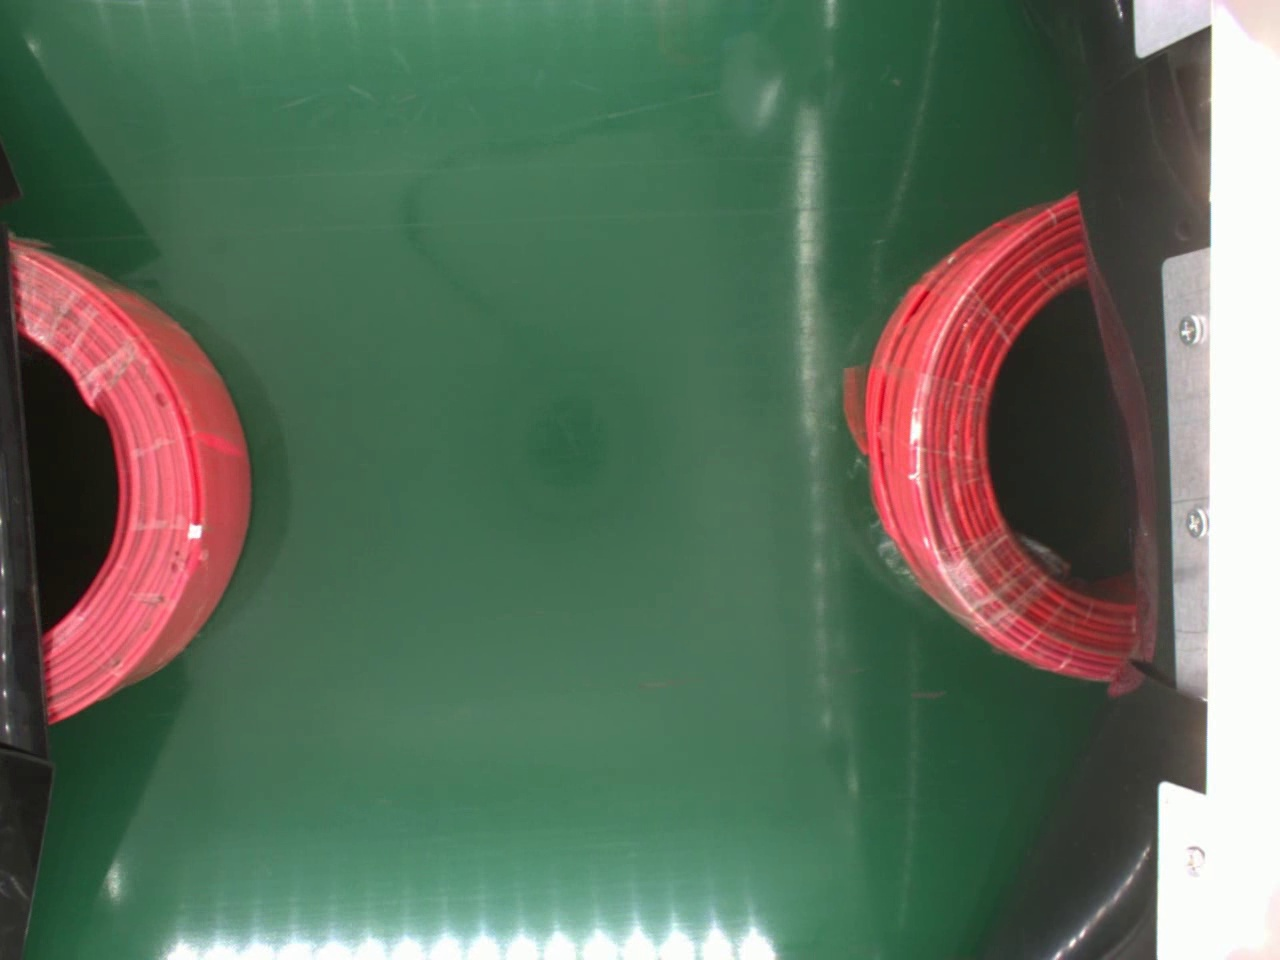red: (866, 190, 1144, 686), (9, 237, 257, 720)
